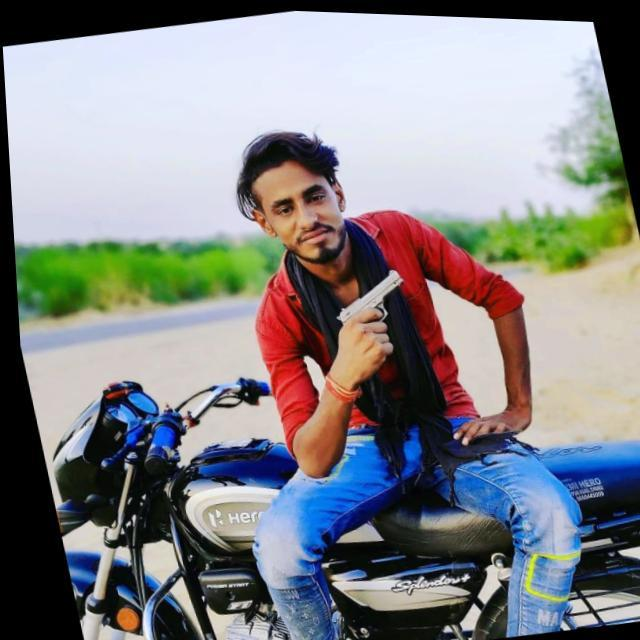weapon: (322, 261, 419, 360)
